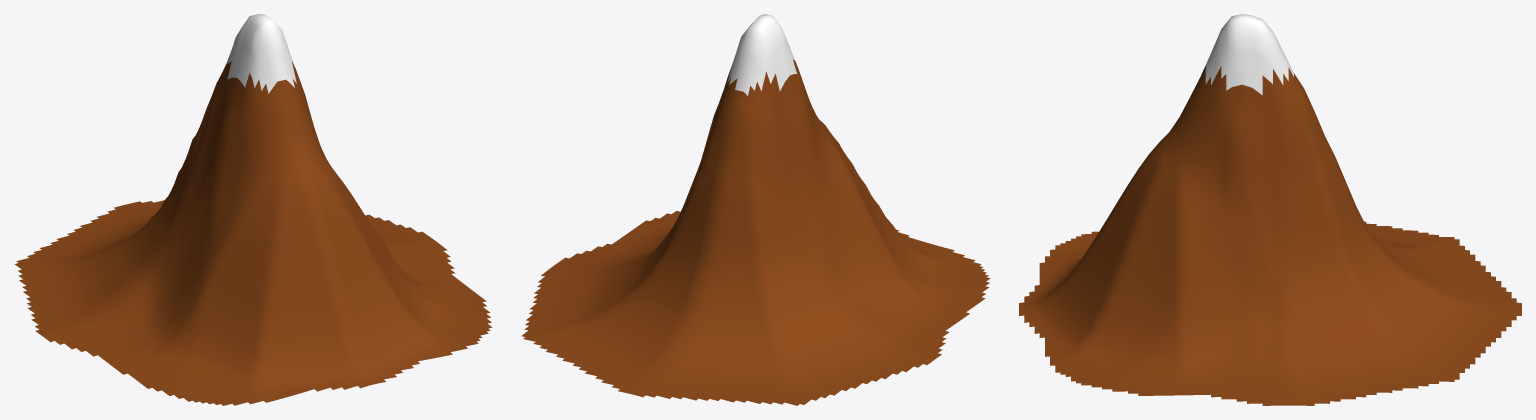
Rendered from SM_Mountains_004.fbx.
The picture shows the model from 3 angles, left to right: view 1: azimuth 30°, elevation 25°; view 2: azimuth 150°, elevation 25°; view 3: azimuth 270°, elevation 25°; orthographic projection. The views are drawn at different scales.
Visible parts, largest first — view 1: Plane.003; view 2: Plane.003; view 3: Plane.003.
Boxes of the visible parts, x1,y1,x2,y2 form: Plane.003: (14, 14, 492, 405); Plane.003: (521, 14, 990, 405); Plane.003: (1019, 14, 1521, 405).
Bounding box in the file's own units: 3030 × 2136 × 3300.
